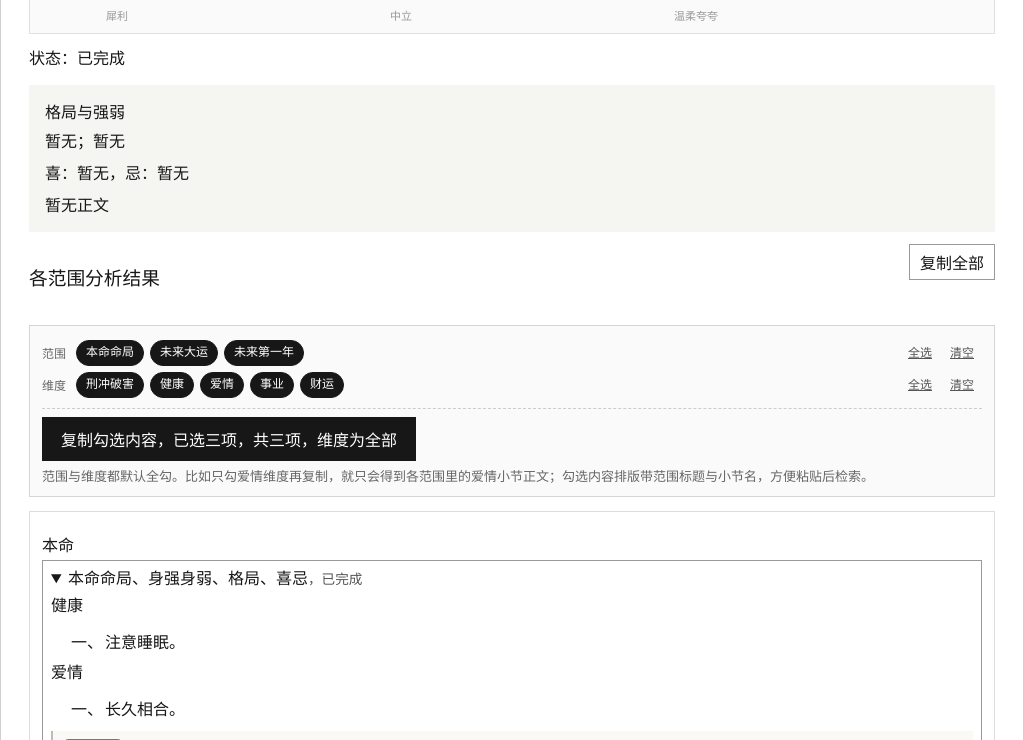
Scenario: 复制项数必须跟着维度筛选走 › 缺陷：同一份正文只有两节，按钮读数与回执却都还说「已选三项」
(page scrolled)
Check: the button "复制勾选内容" is shown, box [42,417,416,461]
Click the button "财运".
click(322, 385)  # box [300,372,344,398]
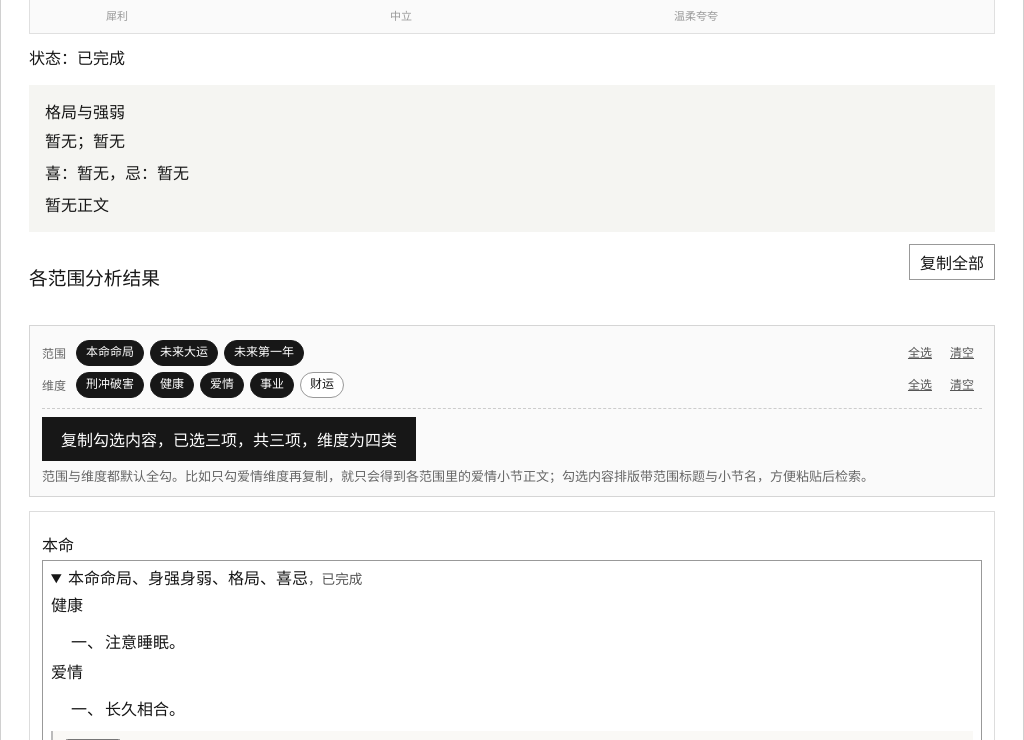
Click the button "复制勾选内容".
click(229, 439)  # box [42,417,416,461]
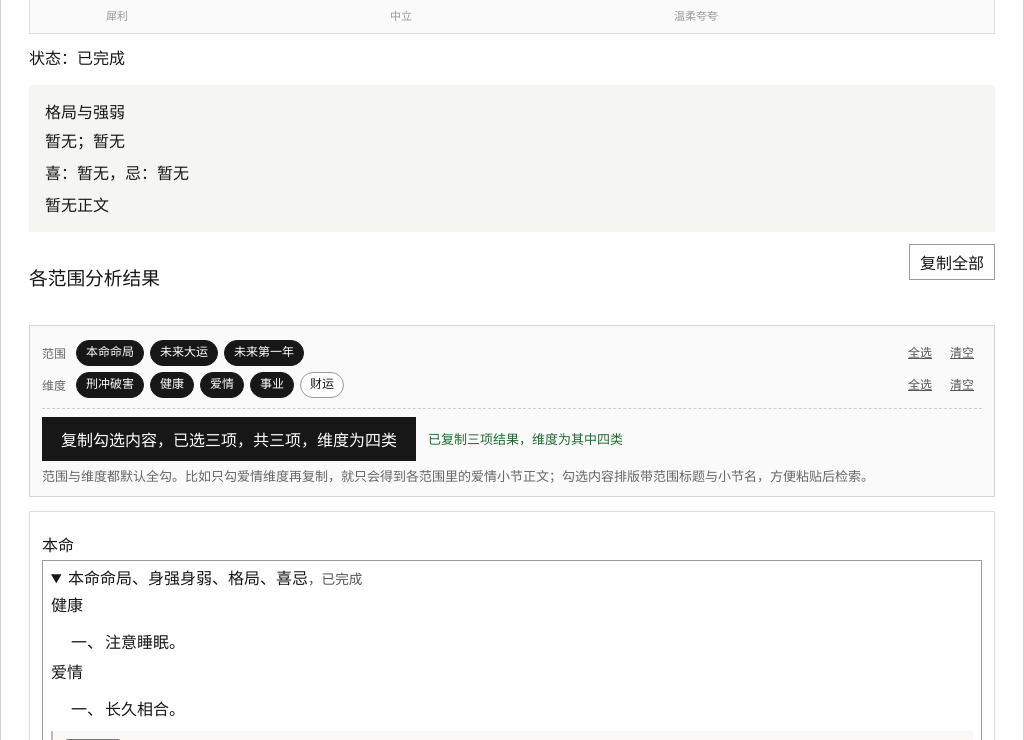
Check: the message "已复制三项结果，维度为其中四类" is shown, box [428,429,623,448]
